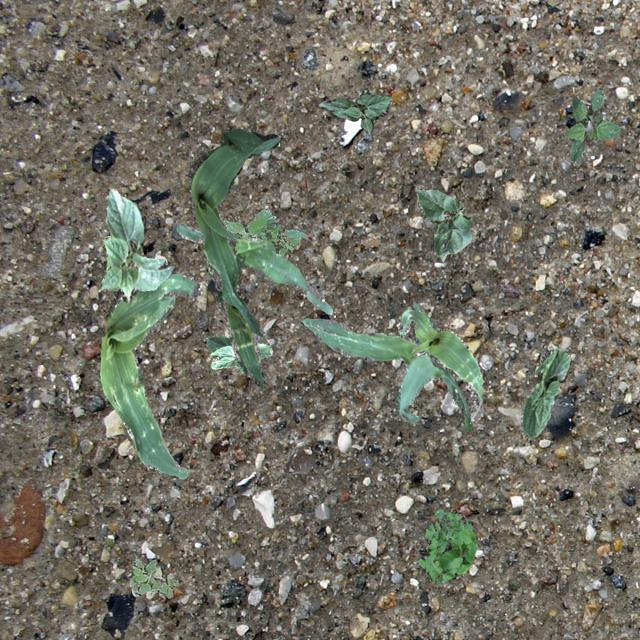crop: (186, 128, 280, 386), (300, 300, 470, 430), (98, 272, 200, 478), (176, 224, 332, 314), (396, 308, 482, 420), (98, 188, 174, 302), (520, 348, 570, 438), (416, 188, 472, 260), (318, 92, 390, 132), (205, 334, 272, 372)
weed: (418, 508, 476, 582), (564, 86, 620, 160), (222, 208, 304, 254), (128, 558, 178, 596)
